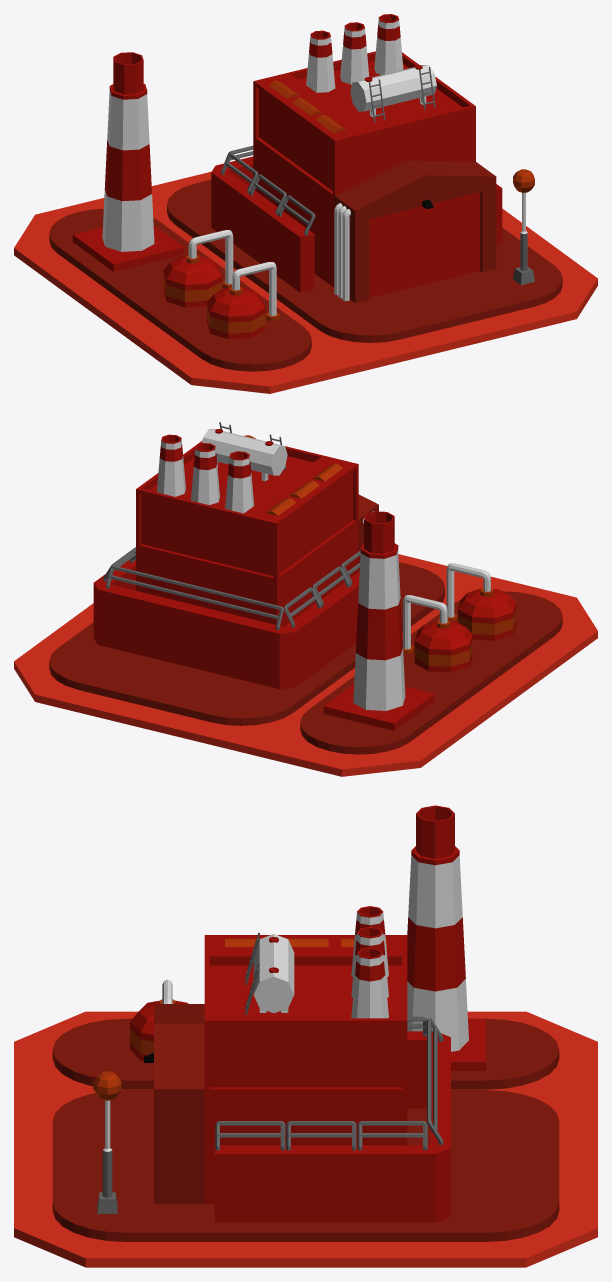
The model's file is PowerPlant_Red.fbx.
The picture shows the model from 3 angles, top to bottom: view 1: azimuth 30°, elevation 25°; view 2: azimuth 150°, elevation 25°; view 3: azimuth 270°, elevation 25°; orthographic projection. The views are drawn at different scales.
Visible parts, largest first — view 1: Power plant red.001; view 2: Power plant red.001; view 3: Power plant red.001.
Part boxes in pixels (x1,y1,x2,y2): Power plant red.001: (14,14,597,393); Power plant red.001: (14,422,597,776); Power plant red.001: (14,805,597,1267).
Size of the model in its own units: 576 by 280 by 576.
